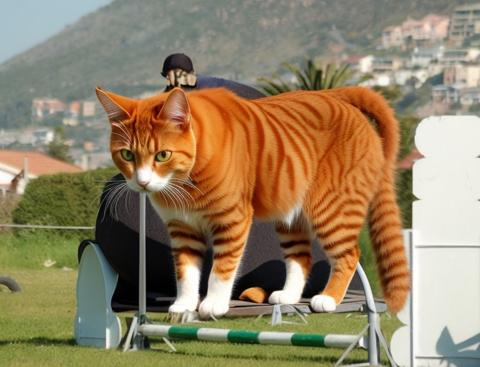cat: (78, 85, 412, 313)
person: (161, 54, 264, 196)
